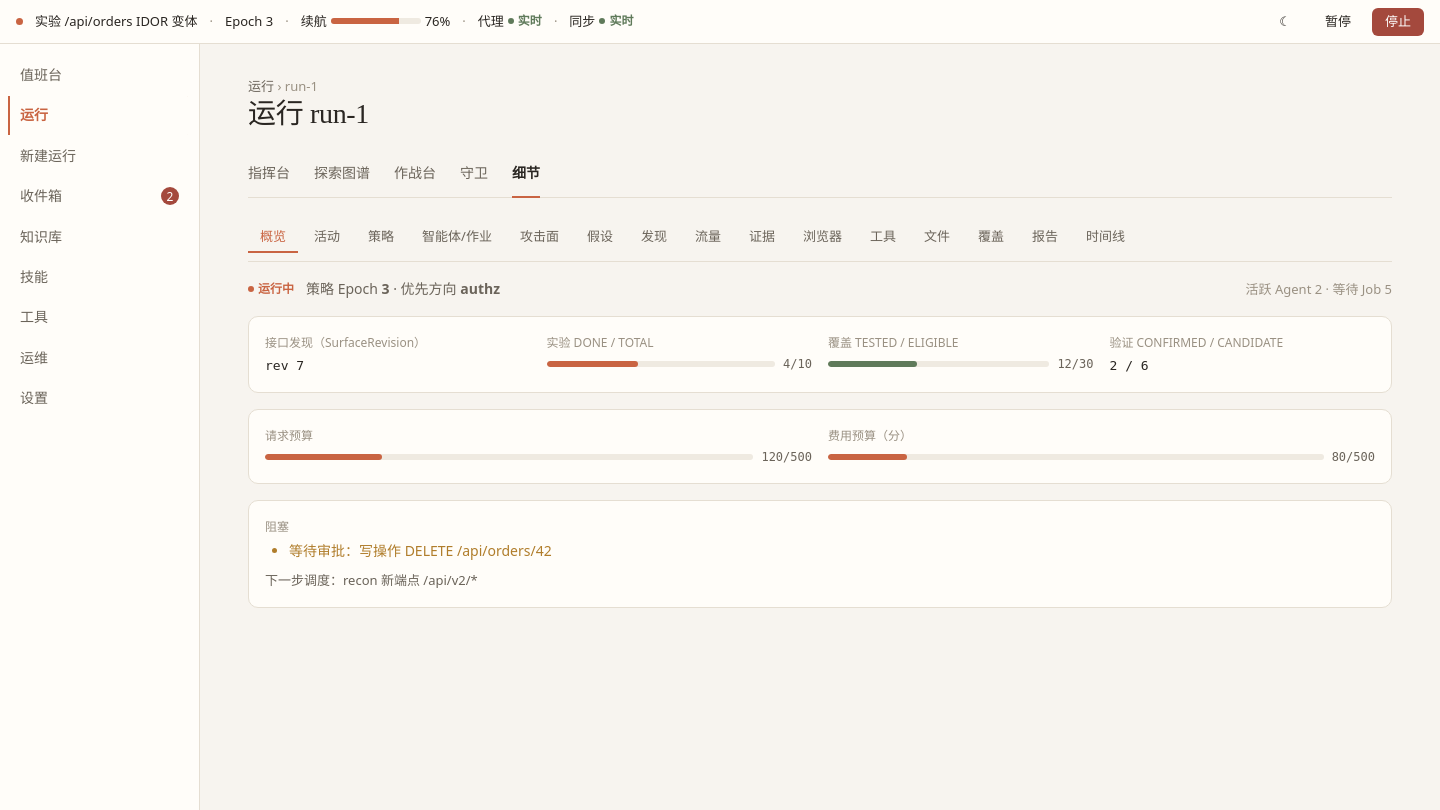
Test case: App 外壳与导航 › 细节层子导航切到 Findings → 事实/推断分区呈现
Step 1. Click the tab "发现" → click(654, 236), box x1=641 y1=227 x2=667 y2=245
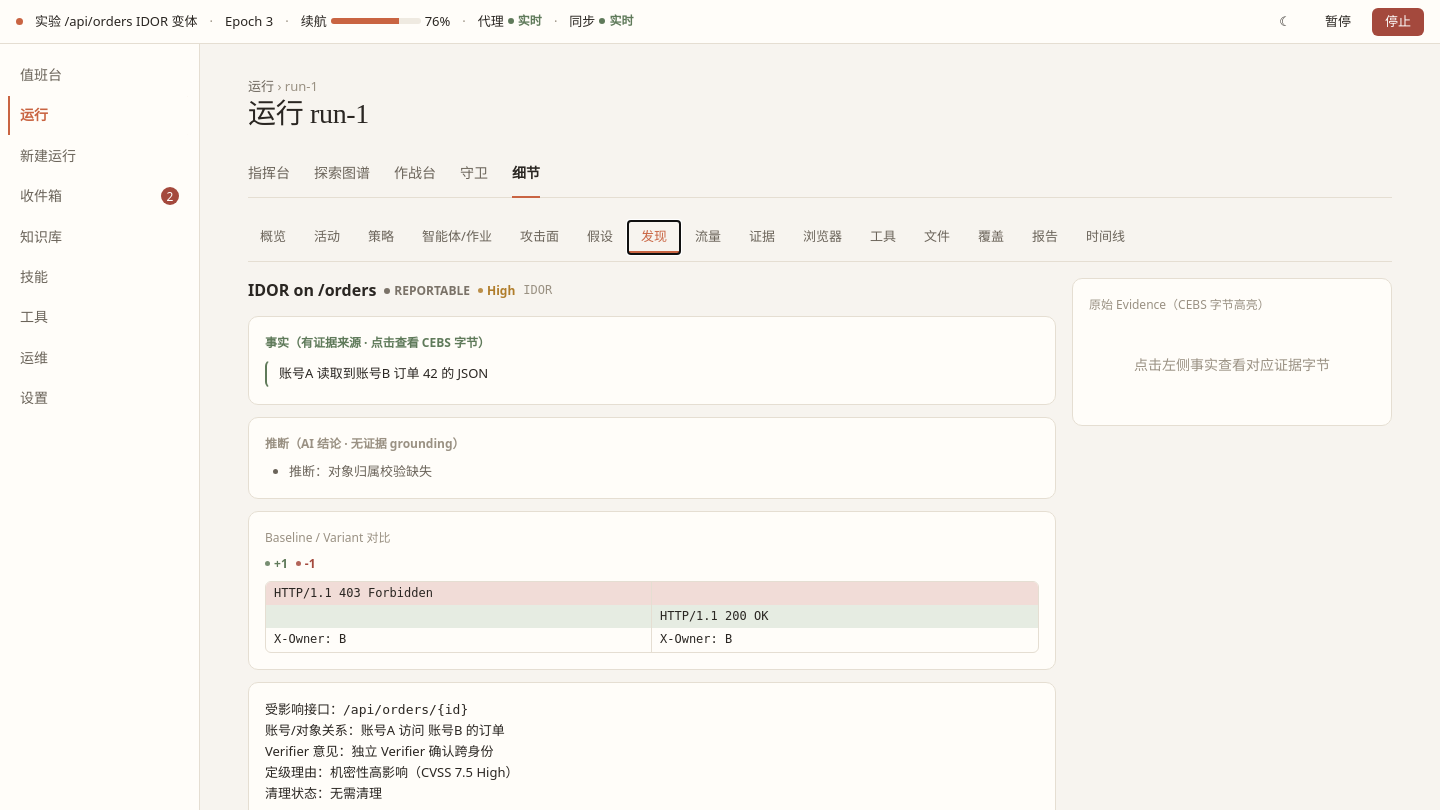
Check: the list with test id "facts" is shown, box x1=265 y1=360 x2=1039 y2=388
Check: the list with test id "inferences" is shown, box x1=289 y1=462 x2=432 y2=480
